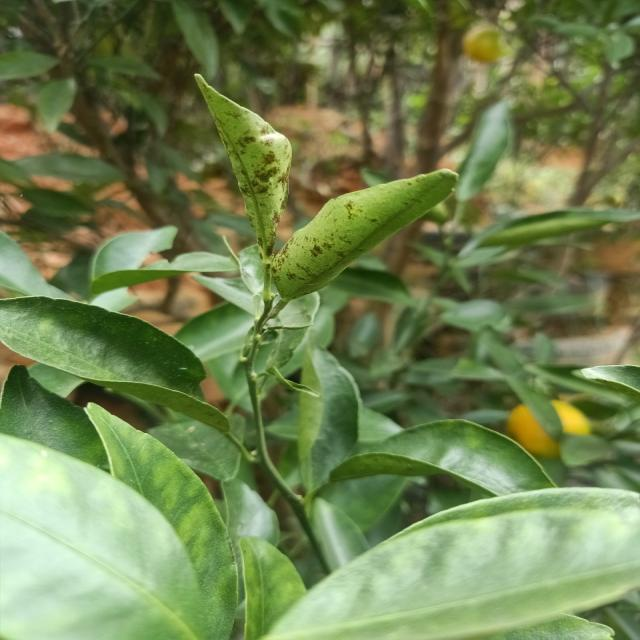melanose: (264, 167, 454, 303), (184, 75, 301, 255)
